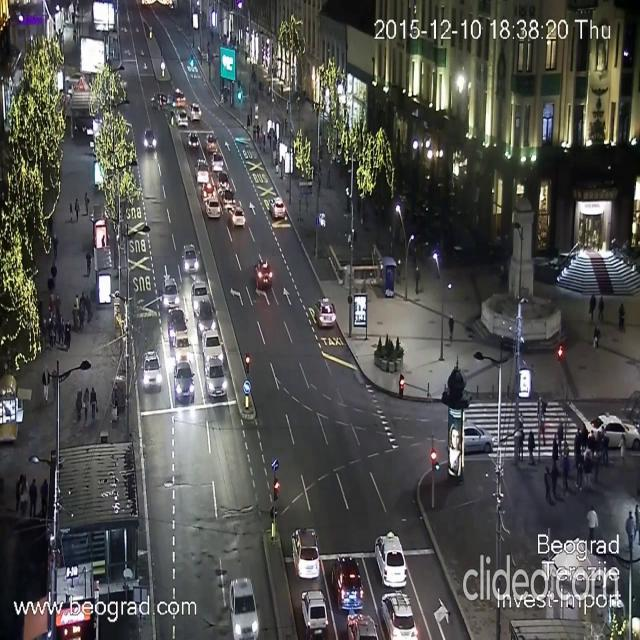car: (229, 576, 259, 639), (375, 530, 407, 588), (587, 416, 640, 450), (333, 553, 363, 610), (380, 590, 412, 640), (291, 528, 319, 580), (300, 591, 327, 640), (142, 350, 164, 396), (462, 423, 494, 453), (349, 610, 378, 640), (205, 358, 225, 400), (174, 364, 193, 400), (253, 256, 273, 290), (314, 298, 336, 328), (202, 328, 224, 358), (167, 312, 187, 342), (196, 298, 214, 330), (162, 276, 180, 308), (175, 335, 192, 366), (268, 195, 288, 221), (183, 248, 199, 276), (193, 284, 209, 310), (208, 195, 224, 217), (202, 184, 216, 207), (228, 208, 246, 224), (222, 190, 236, 210), (217, 173, 230, 193), (144, 130, 155, 152), (196, 161, 208, 181), (176, 106, 188, 125), (208, 136, 218, 156), (174, 92, 186, 108), (152, 94, 168, 105), (188, 134, 198, 150), (192, 103, 200, 120), (213, 158, 222, 172)
